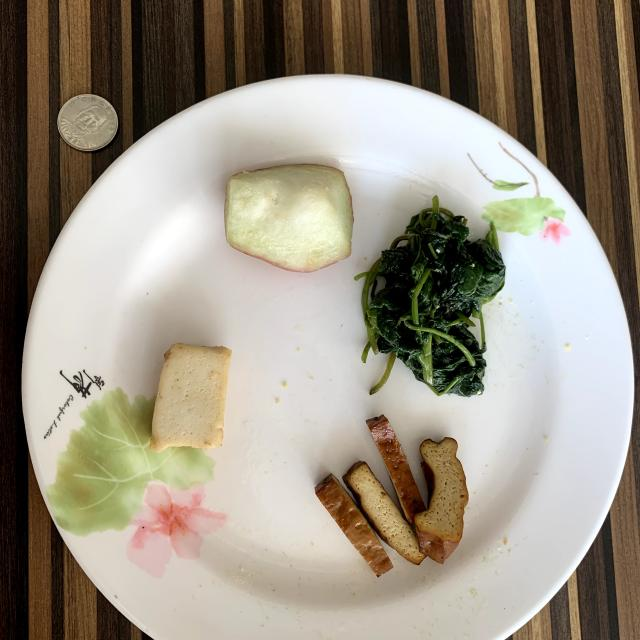coin: (58, 94, 118, 151)
creamy tofu -without sauce-: (150, 344, 231, 452)
firm tofu: (316, 415, 469, 576)
sweet potato leaves: (359, 196, 505, 396)
